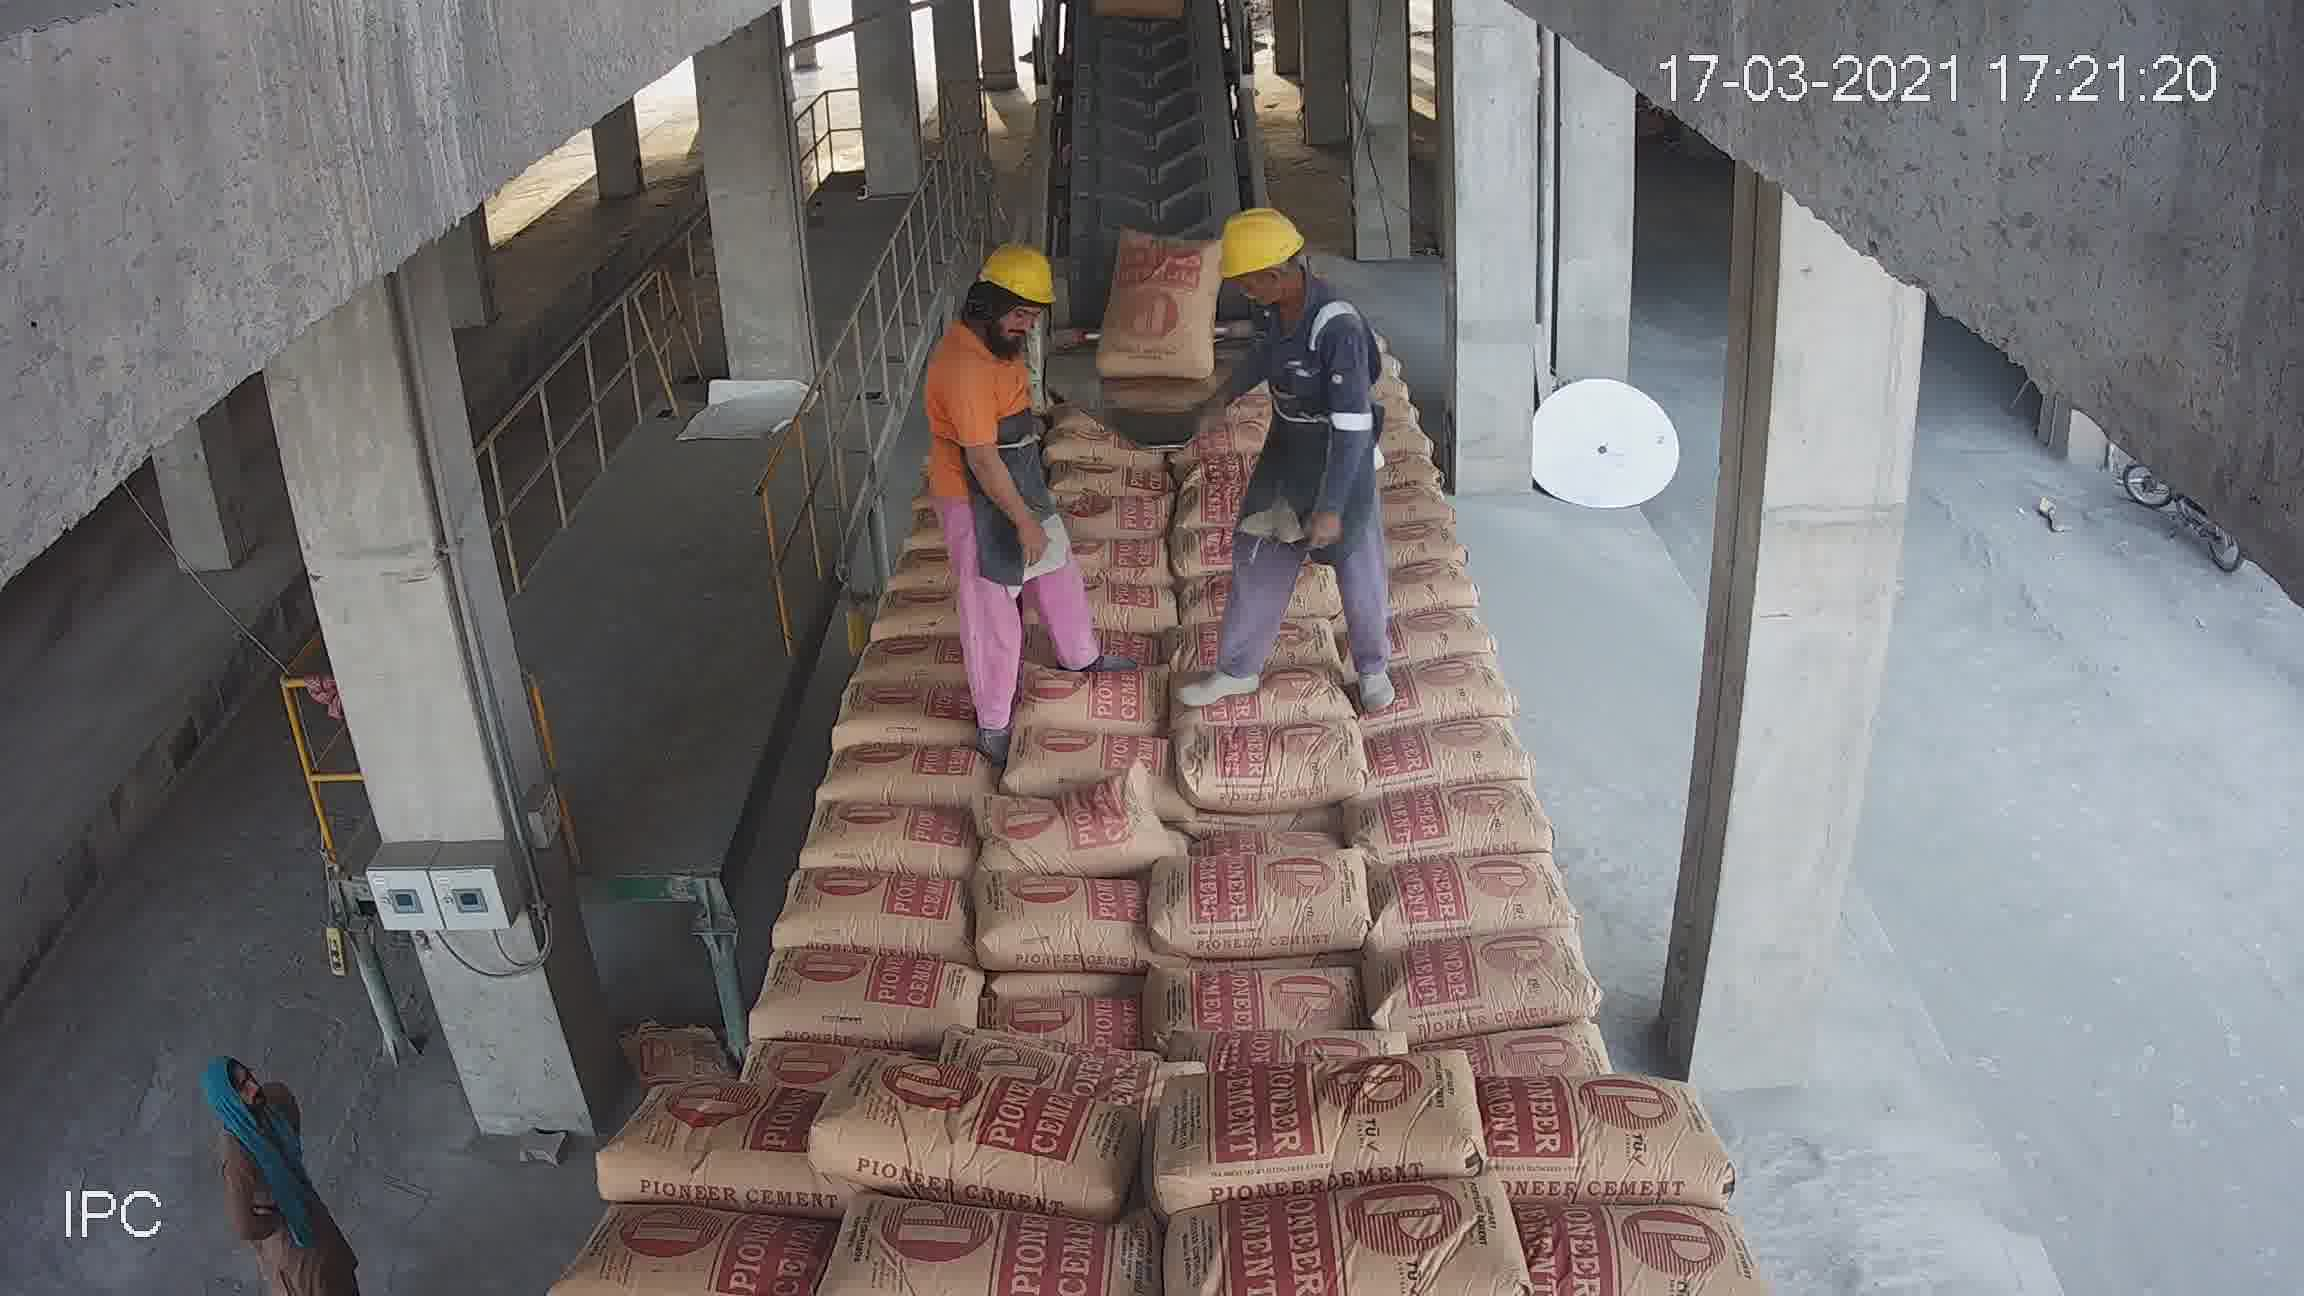bag_h: (1100, 1158, 1549, 1296), (1127, 921, 1451, 1089), (1146, 1048, 1510, 1196), (820, 1052, 1157, 1193), (873, 943, 1173, 1092), (1456, 1054, 1723, 1201), (1146, 820, 1419, 959), (1446, 943, 1692, 1073), (636, 953, 872, 1082), (891, 843, 1146, 961), (1532, 1176, 1780, 1285), (1138, 731, 1389, 839), (791, 1222, 1157, 1294), (581, 1090, 801, 1203), (907, 753, 1161, 850), (562, 1207, 823, 1296), (1429, 858, 1636, 965), (1400, 766, 1603, 866), (707, 775, 902, 877), (687, 881, 885, 968), (1017, 658, 1171, 737), (1010, 714, 1179, 775), (1404, 714, 1525, 780), (1021, 584, 1179, 628), (916, 508, 1027, 559), (1177, 570, 1268, 631), (1427, 647, 1499, 725), (1002, 635, 1173, 666), (1036, 549, 1166, 590), (919, 543, 1029, 587), (1225, 529, 1309, 585), (1165, 623, 1268, 669), (910, 464, 1010, 506), (1179, 673, 1260, 718)
belt: (1024, 5, 1283, 473)
